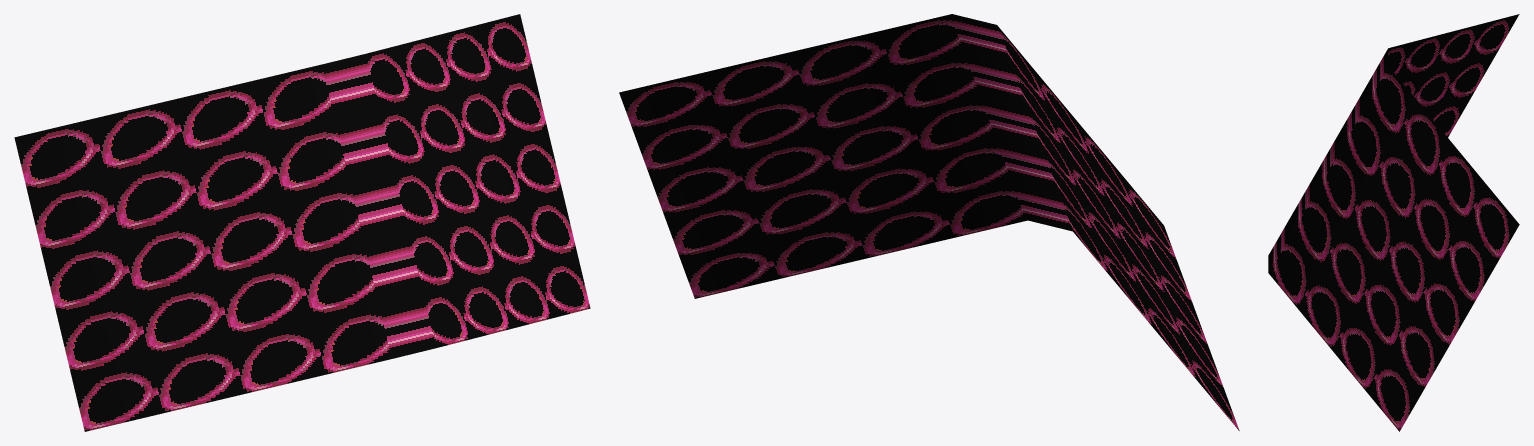
File: 5772head054_c.gltf
3 views of the same model, side by side, from view 1: azimuth 30°, elevation 25°; view 2: azimuth 150°, elevation 25°; view 3: azimuth 270°, elevation 25° (orthographic). The views are drawn at different scales.
Parts seen in each view (by area): view 1: 5772head054_c; view 2: 5772head054_c; view 3: 5772head054_c.
Boxes of the visible parts, bbox=[...] form: 5772head054_c: bbox=[14, 14, 590, 431]; 5772head054_c: bbox=[619, 14, 1239, 430]; 5772head054_c: bbox=[1268, 14, 1519, 431].
Size of the model in its own units: 0.6523 by 0.3896 by 0.3291.
1 material, 1 textured.
